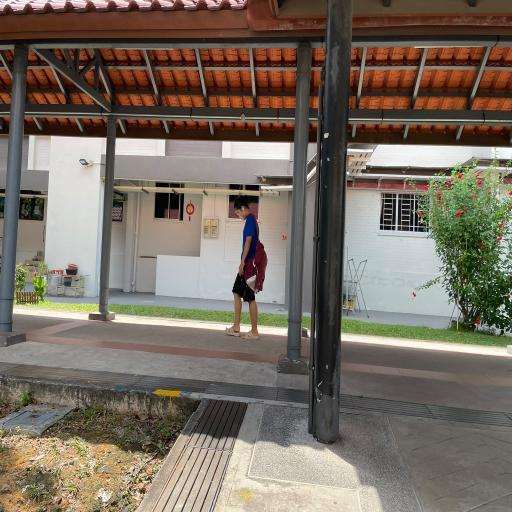person_left: (226, 196, 267, 339)
